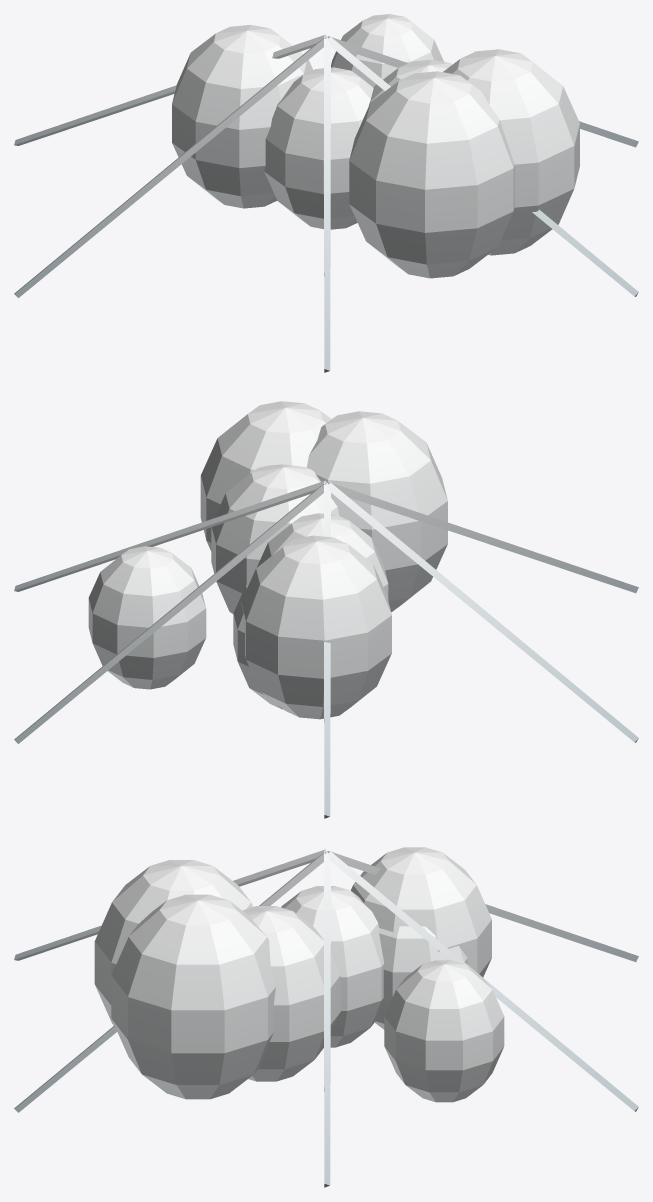
The model's file is egg_sacs.glb.
3 renders of one model, top to bottom at view 1: azimuth 30°, elevation 25°; view 2: azimuth 150°, elevation 25°; view 3: azimuth 270°, elevation 25°, orthographic.
Parts seen in each view (by area): view 1: egg_sacs; view 2: egg_sacs; view 3: egg_sacs.
Boxes of the visible parts, bbox=[...] form: egg_sacs: bbox=[14, 14, 638, 372]; egg_sacs: bbox=[14, 401, 638, 818]; egg_sacs: bbox=[14, 847, 638, 1187].
Bounding box in the file's own units: 1.81 × 0.5374 × 1.57.
Materials: 1 (1 with a texture image).
